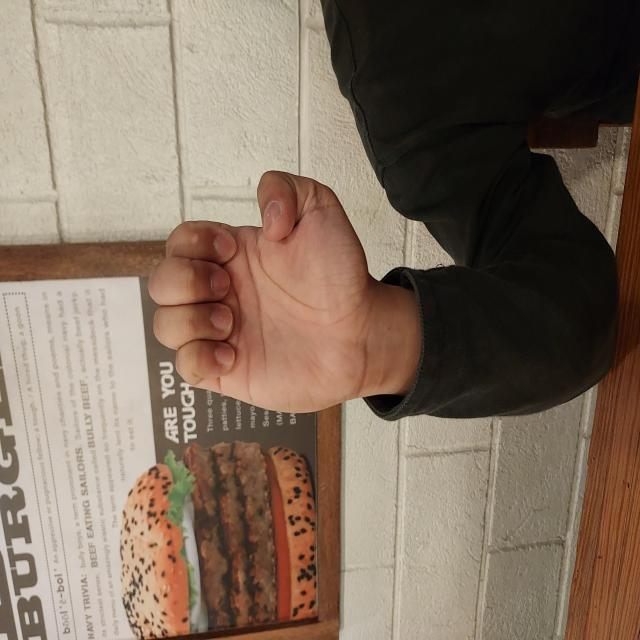E: (225, 146, 471, 378)
